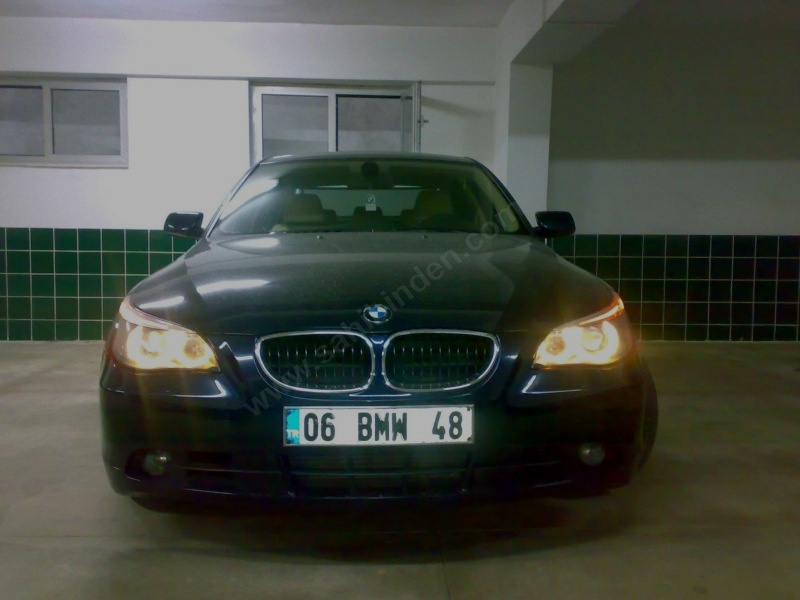plaka: (300, 403, 475, 449)
